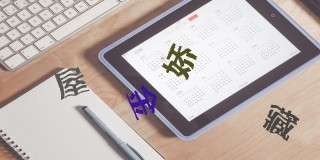娇: (161, 43, 197, 79)
屋: (54, 66, 90, 99)
藏: (264, 104, 299, 141)
金: (125, 86, 157, 121)
